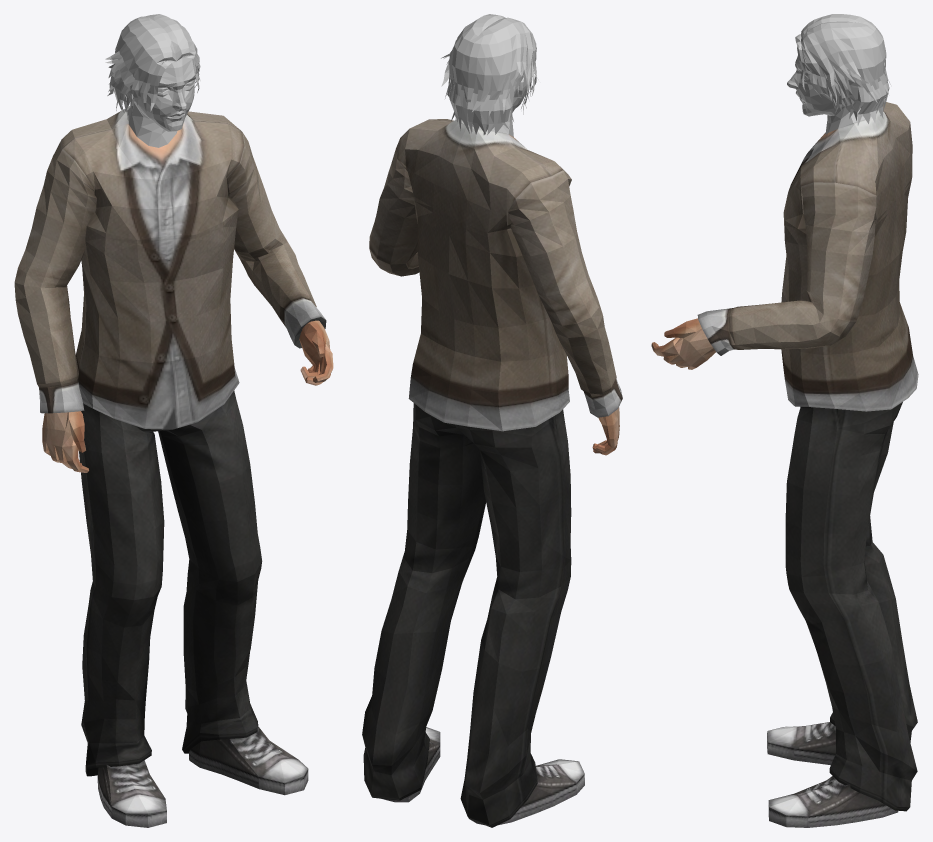
File: holdingMale01.obj
3 views of the same model, side by side, from view 1: azimuth 30°, elevation 25°; view 2: azimuth 150°, elevation 25°; view 3: azimuth 270°, elevation 25° (orthographic). The views are drawn at different scales.
Parts seen in each view (by area): view 1: Object01; view 2: Object01; view 3: Object01.
Boxes of the visible parts, x1,y1,x2,y2 form: Object01: [14, 14, 333, 827]; Object01: [362, 14, 622, 827]; Object01: [651, 14, 918, 827].
Size of the model in its own units: 62.69 by 185 by 59.27.
